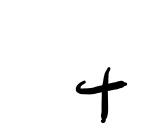plus: (73, 66, 127, 123)
